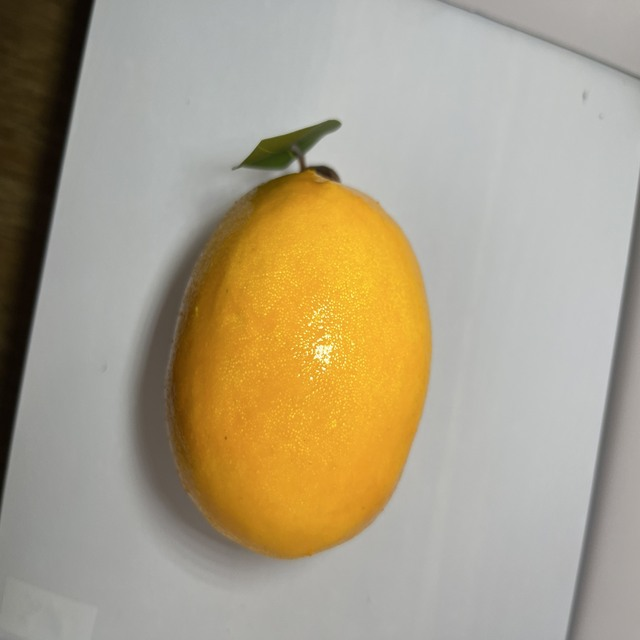Cam vang: (154, 167, 440, 564)
